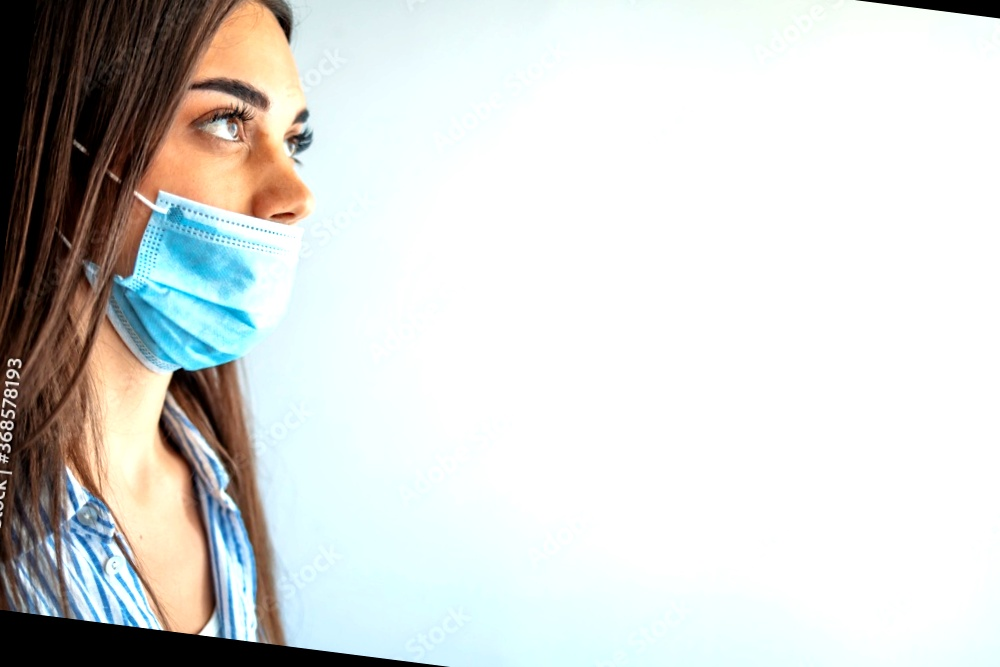mask_weared_incorrect: (55, 1, 329, 383)
